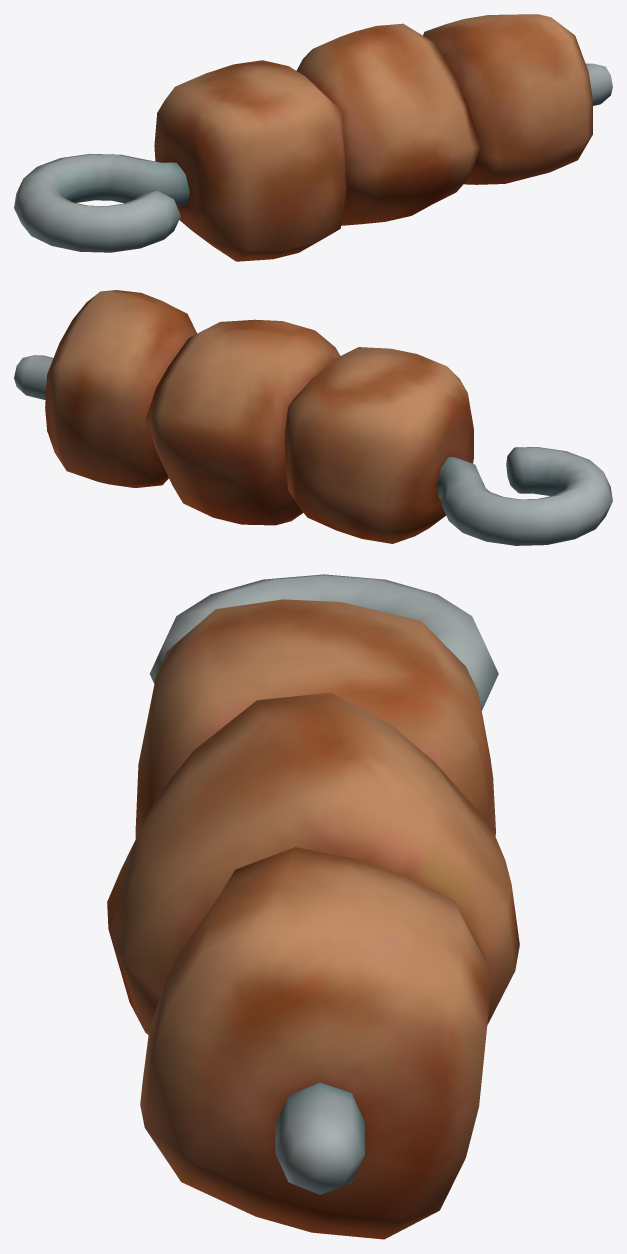
The model's file is Meat Skewer.obj.
3 renders of one model, top to bottom at view 1: azimuth 30°, elevation 25°; view 2: azimuth 150°, elevation 25°; view 3: azimuth 270°, elevation 25°, orthographic. The views are drawn at different scales.
Visible parts, largest first — view 1: Meat_Skewer; view 2: Meat_Skewer; view 3: Meat_Skewer.
Part boxes in pixels (x1,y1,x2,y2): Meat_Skewer: (14, 14, 612, 261); Meat_Skewer: (14, 290, 612, 545); Meat_Skewer: (107, 574, 519, 1239).
Size of the model in its own units: 0.3109 by 0.0981 by 0.0949.
1 material, 1 textured.
